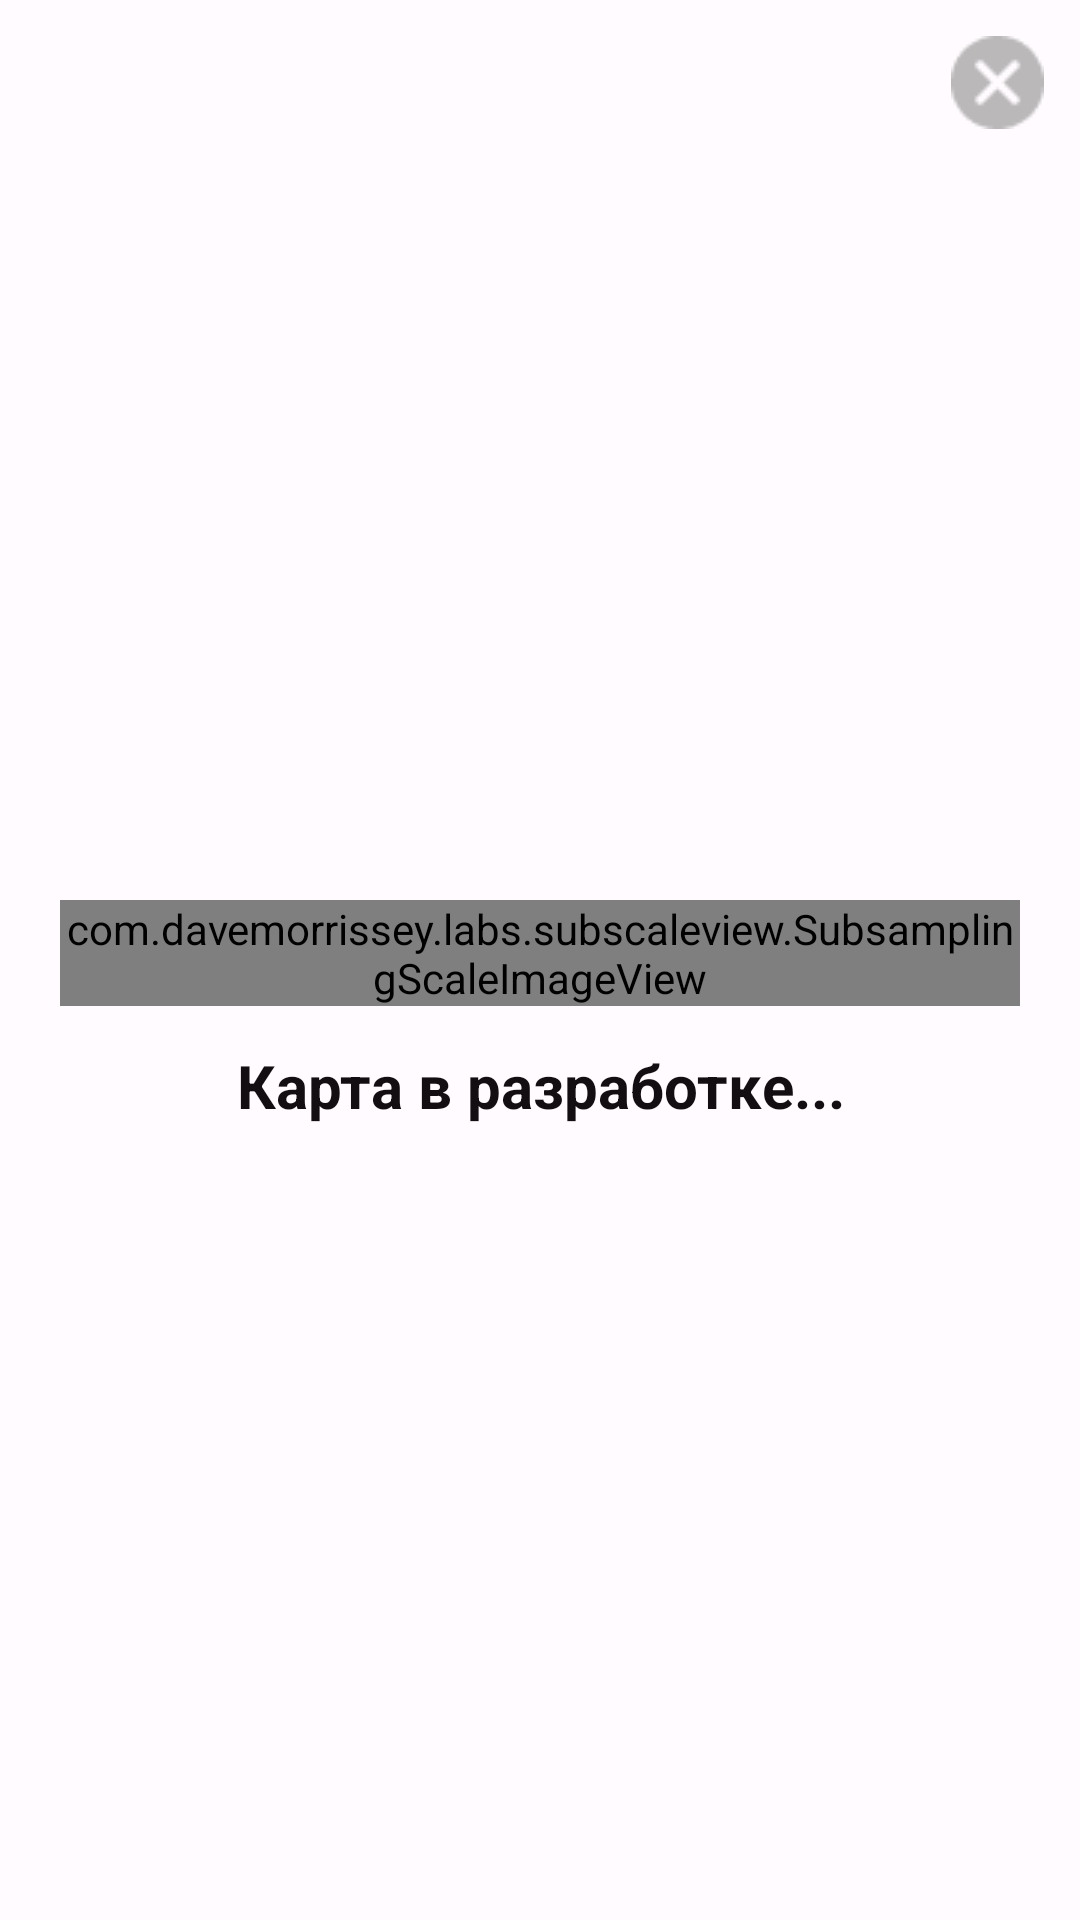

Icons on this 1080×1920 Android screen, each with its box as box=[x1, y1, x2, y2]:
Закрыть карту: box=[951, 36, 1044, 129]
